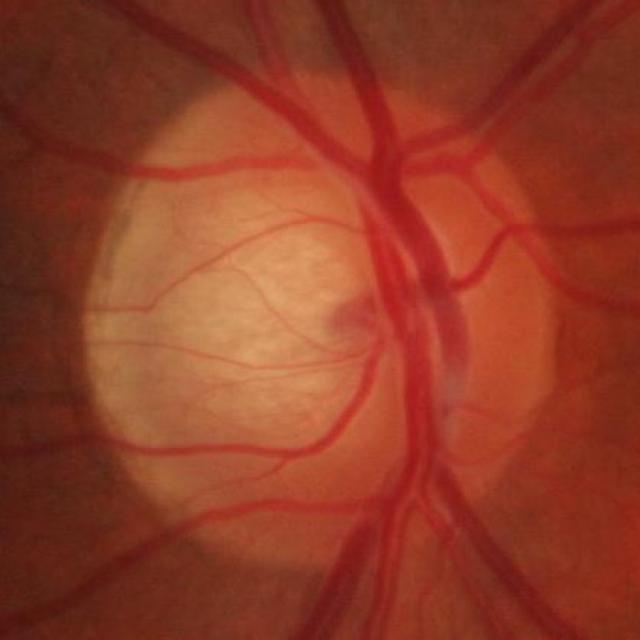OC: (175, 175, 468, 443)
OD: (85, 78, 558, 568)
